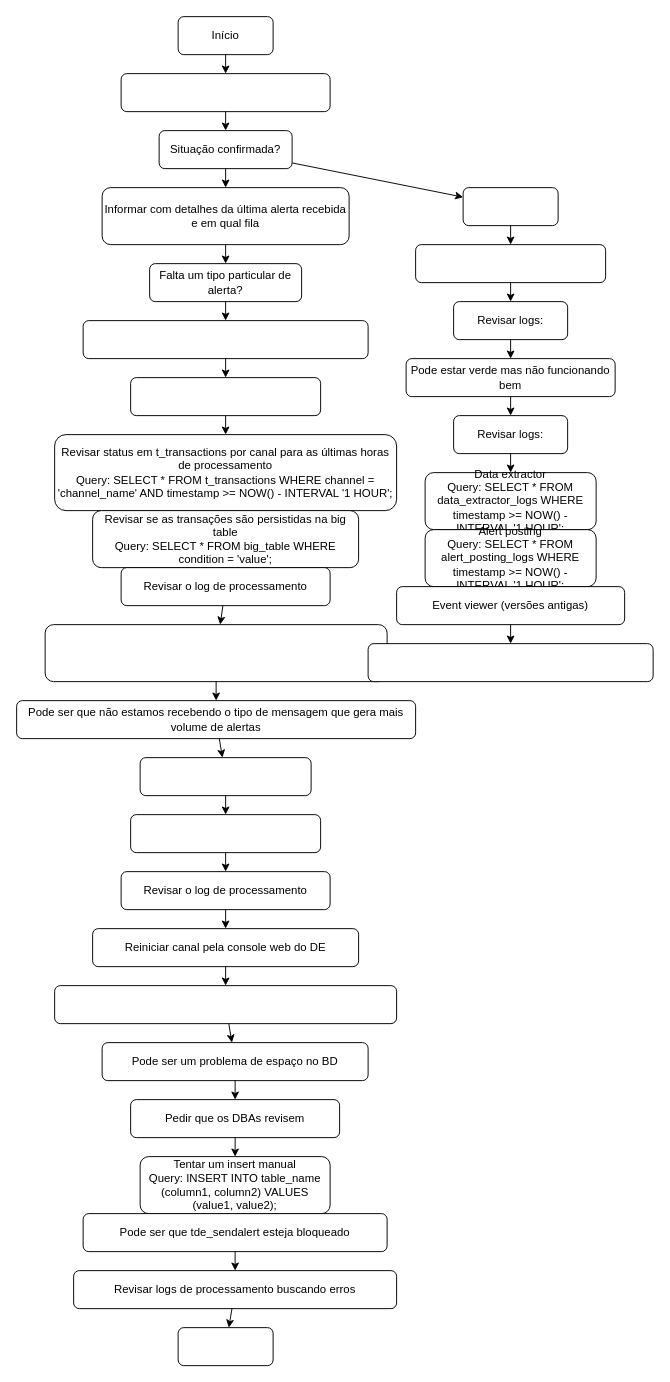
Image size: 670x1382. Some labels were removed from this diagram. The shapes that lost their labels are listed below. From the top down, each one's centre as x and y in pixels, then its label:
At point 225,92: "Revisar a data de chegada da última alerta não manual".
At point 510,206: "Sem Alertas".
At point 510,263: "Dataextractor de alertas e alert posting estão ativos?".
At point 225,339: "Não estão chegando alertas em determinadas filas".
At point 225,396: "Detecion Engine está gerando alertas?".
At point 215,653: "Revisar as regras que mais geram alertas e tipos de mensagens configuradas".
At point 510,662: "Reiniciar o serviço Message Queuing (em services)".
At point 225,776: "Estamos processando sem erro?".
At point 225,833: "Alertas estão no canal de saída?".
At point 225,1004: "O canal pode estar verde na console mas no log está parado?".
At point 225,1346: "Fim".
